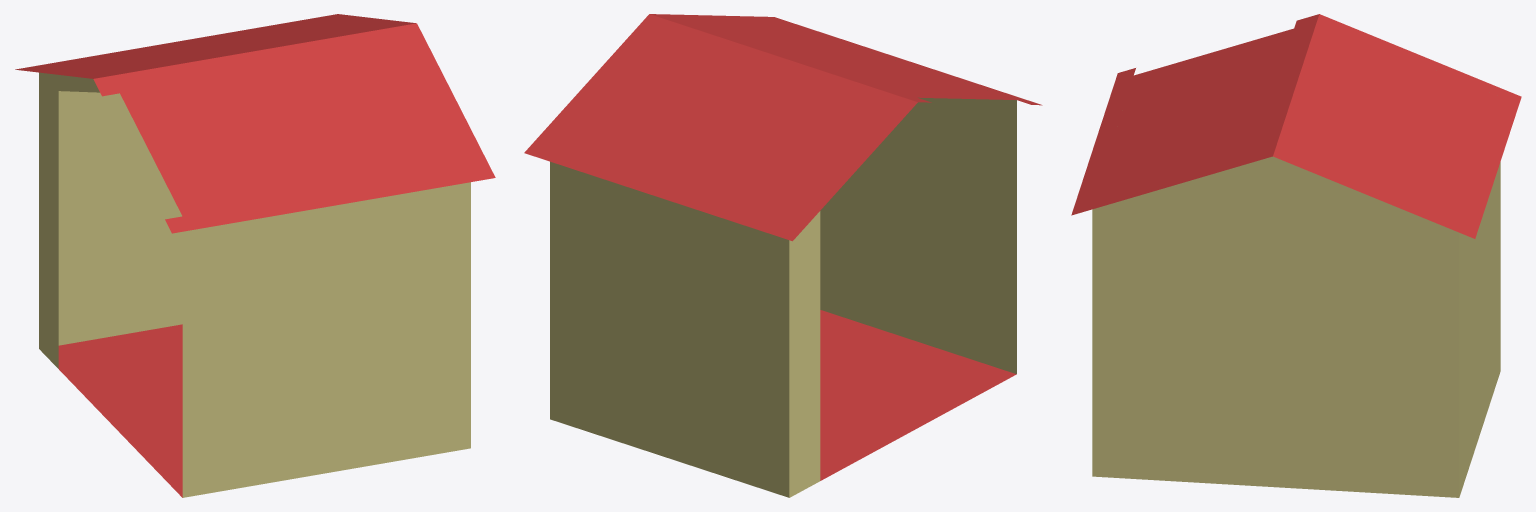
3 renders of one model, left to right at view 1: azimuth 30°, elevation 25°; view 2: azimuth 150°, elevation 25°; view 3: azimuth 270°, elevation 25°, orthographic. The views are drawn at different scales.
Bounding box in the file's own units: 10.55 × 12.1 × 10.03.
